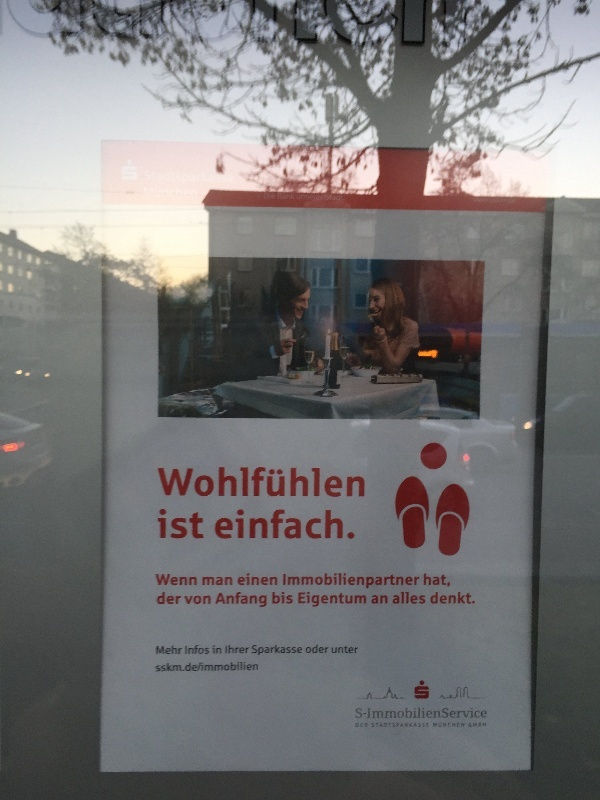text: (225, 509, 240, 541), (241, 509, 256, 541), (257, 509, 272, 541), (273, 509, 288, 541), (289, 509, 304, 541), (305, 509, 320, 541), (321, 509, 336, 541), (337, 509, 352, 541), (161, 508, 176, 539), (177, 508, 192, 539), (161, 468, 176, 498), (177, 468, 192, 498), (193, 468, 208, 498), (209, 468, 224, 498), (225, 468, 240, 498), (241, 468, 256, 498), (257, 468, 272, 498), (273, 468, 288, 498), (289, 468, 304, 498), (305, 468, 320, 498), (321, 468, 336, 498), (337, 468, 352, 498), (353, 468, 365, 498), (193, 508, 204, 539), (289, 571, 304, 591), (305, 571, 320, 591), (321, 571, 336, 591), (337, 571, 352, 591), (353, 571, 368, 591), (369, 571, 384, 591), (385, 571, 400, 591), (401, 571, 416, 591), (216, 509, 224, 541), (225, 591, 240, 608), (241, 591, 256, 608), (305, 591, 320, 608), (321, 591, 336, 608), (337, 591, 352, 608), (241, 571, 256, 587), (257, 571, 272, 587), (353, 591, 367, 608), (417, 681, 429, 699), (433, 573, 448, 587), (273, 591, 288, 605), (369, 705, 384, 719), (385, 705, 400, 719), (401, 705, 416, 719), (417, 705, 432, 719), (433, 705, 448, 719), (449, 705, 464, 719), (465, 705, 480, 719), (161, 573, 176, 586), (177, 573, 192, 586), (401, 591, 416, 604), (433, 592, 448, 605), (449, 592, 464, 605), (161, 592, 176, 605), (257, 591, 267, 608), (356, 705, 368, 719), (257, 645, 272, 656), (273, 645, 288, 656), (161, 662, 176, 673), (177, 662, 192, 673), (193, 662, 208, 673), (209, 662, 224, 673), (225, 662, 240, 673), (241, 662, 256, 673), (193, 645, 208, 655), (289, 645, 302, 656), (306, 644, 320, 654), (209, 577, 224, 586), (161, 646, 176, 655), (193, 596, 208, 605), (465, 592, 475, 605), (226, 645, 240, 654), (337, 646, 352, 654), (417, 591, 426, 604), (424, 573, 432, 587), (213, 646, 224, 655), (372, 596, 384, 604), (393, 591, 400, 604), (157, 468, 160, 498), (385, 722, 400, 728), (401, 722, 416, 728), (299, 591, 304, 608), (481, 705, 487, 719), (241, 645, 250, 654), (273, 571, 278, 587), (284, 571, 288, 591), (321, 644, 329, 654), (449, 722, 465, 727), (371, 722, 384, 728), (433, 722, 448, 727), (225, 577, 233, 586), (417, 722, 429, 728), (468, 722, 480, 728), (185, 645, 192, 655), (220, 591, 224, 608), (155, 573, 160, 586), (355, 723, 368, 728), (177, 592, 182, 605), (353, 509, 355, 541), (185, 596, 192, 605), (417, 571, 420, 591), (289, 591, 293, 605), (177, 646, 183, 655), (193, 573, 197, 586), (353, 646, 359, 654), (203, 577, 208, 586), (252, 645, 256, 656), (156, 646, 160, 655), (414, 681, 416, 699), (481, 722, 487, 728), (157, 662, 160, 673), (238, 571, 240, 587), (332, 646, 336, 654), (158, 592, 160, 605), (385, 596, 388, 604), (257, 662, 259, 673), (209, 596, 211, 605), (449, 573, 450, 587), (431, 592, 432, 605), (209, 645, 210, 655)
